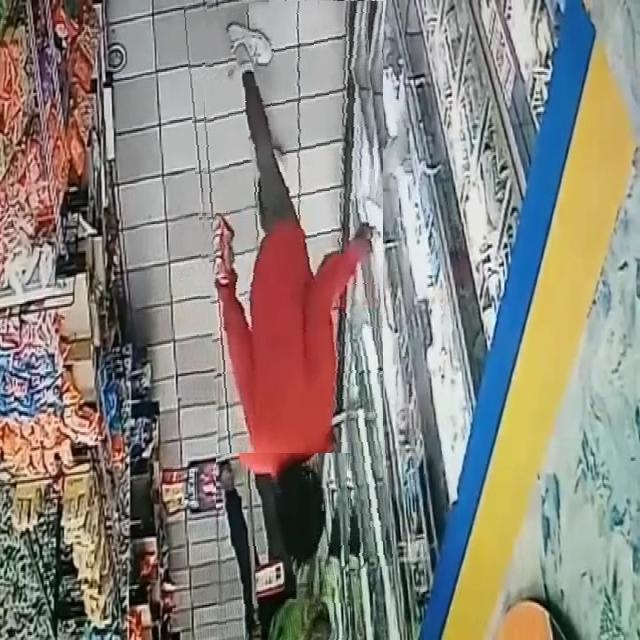Normal: (194, 0, 383, 575), (216, 453, 349, 640)
